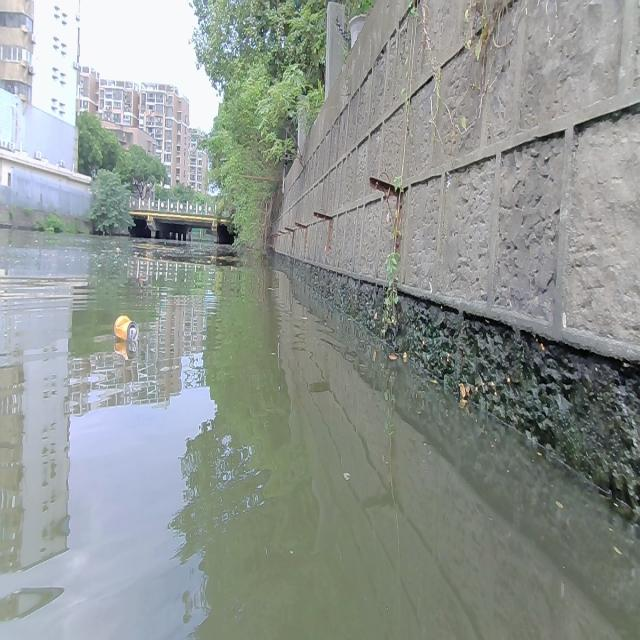bottle: (113, 314, 138, 339)
